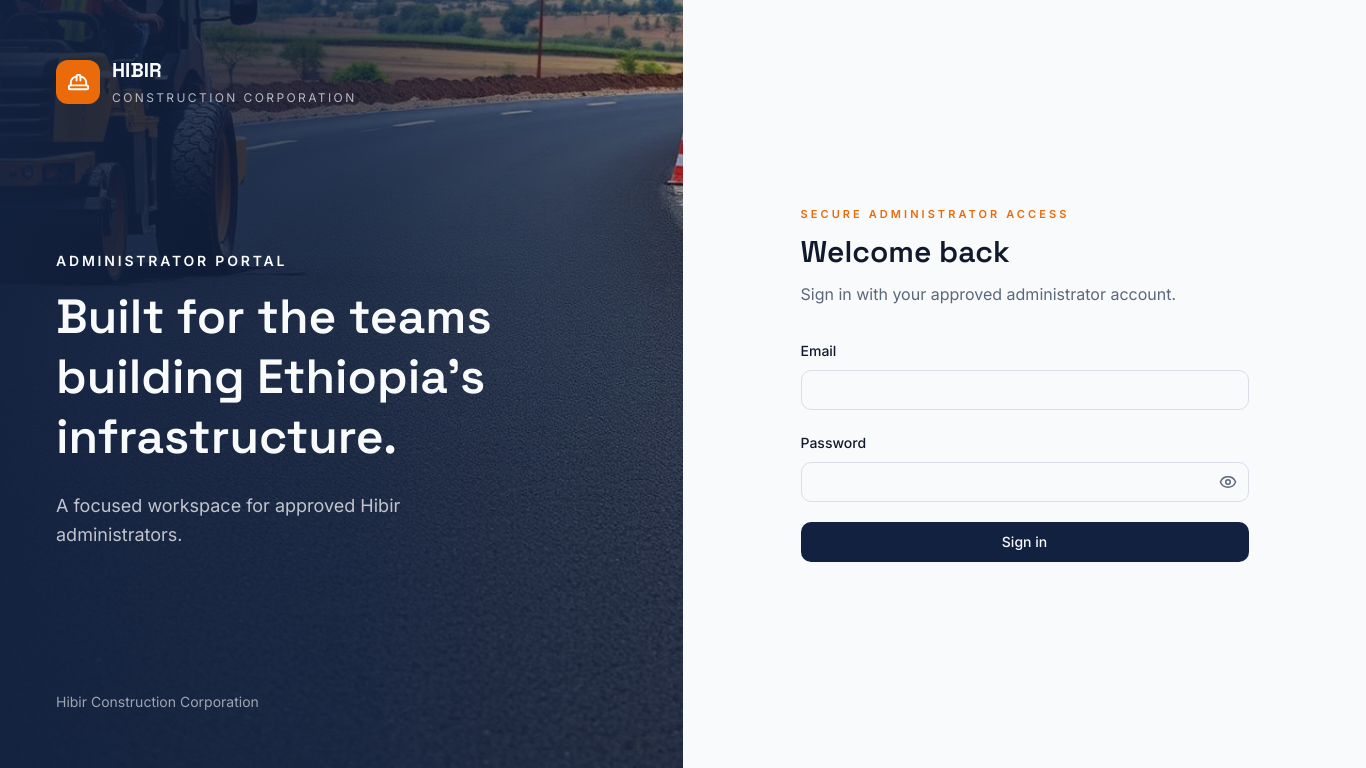
Test case: administrator authentication routes › shows an invalid-credentials error returned by Supabase Auth
In the field labelled "Email": [1024, 390] box [800, 370, 1248, 410], type "admin@example.com"
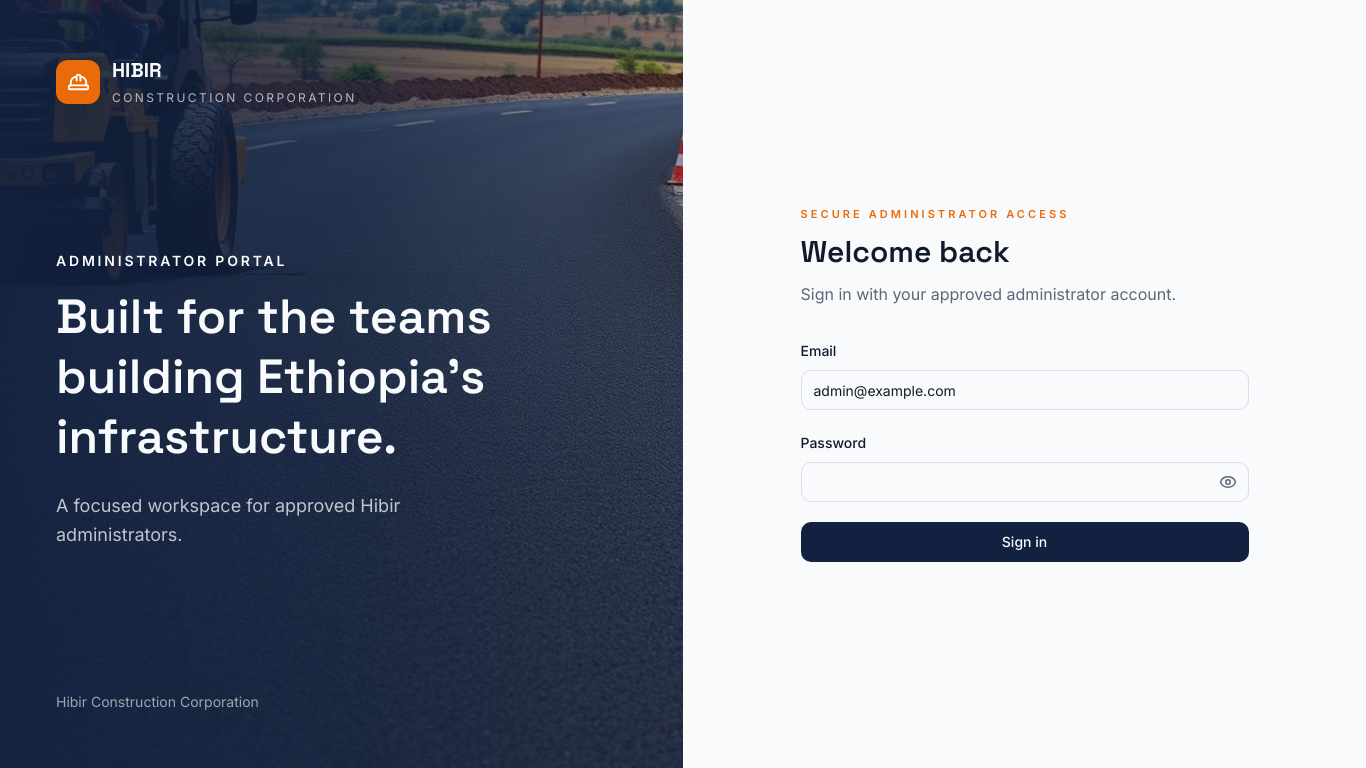
In the password field labelled "Password": [1024, 482] box [800, 462, 1248, 502], type "wrong-password"
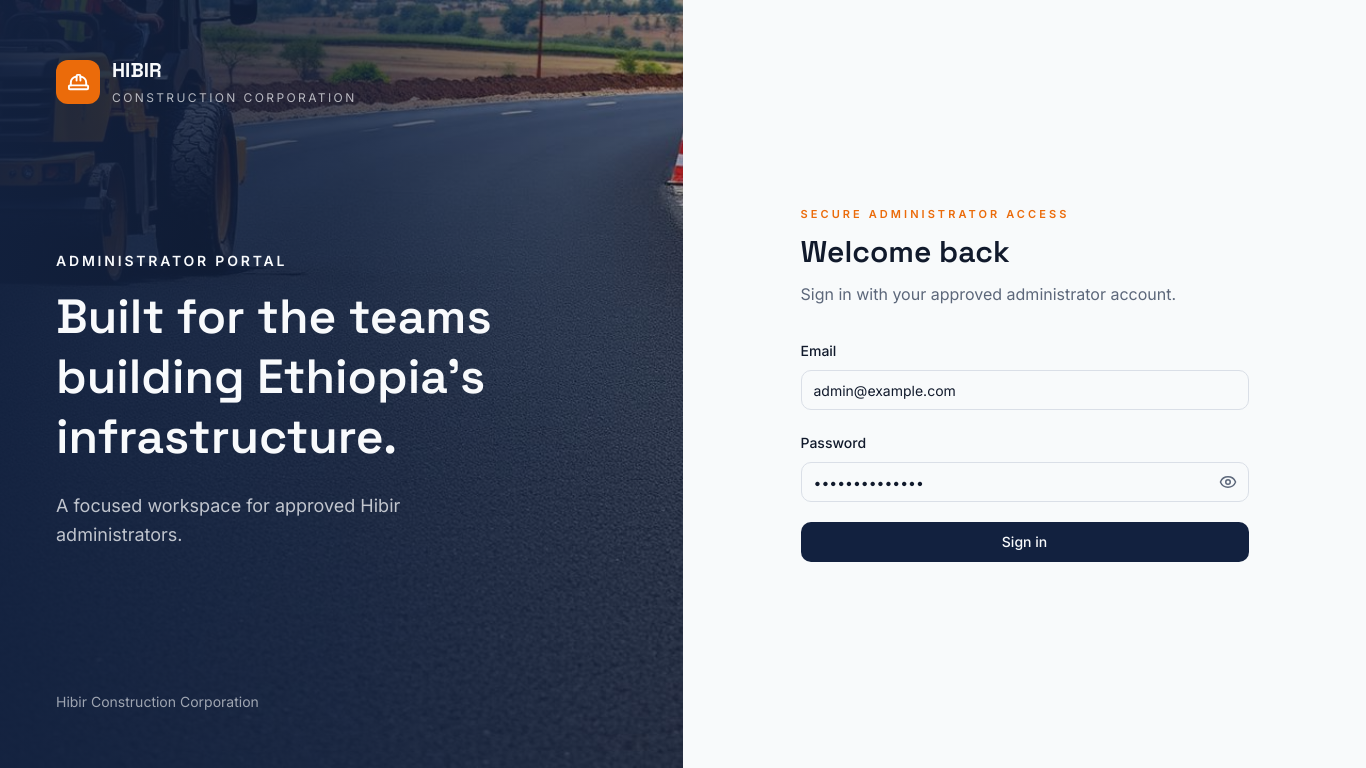
Click the button "Sign in": [1024, 542] box [800, 522, 1248, 562]
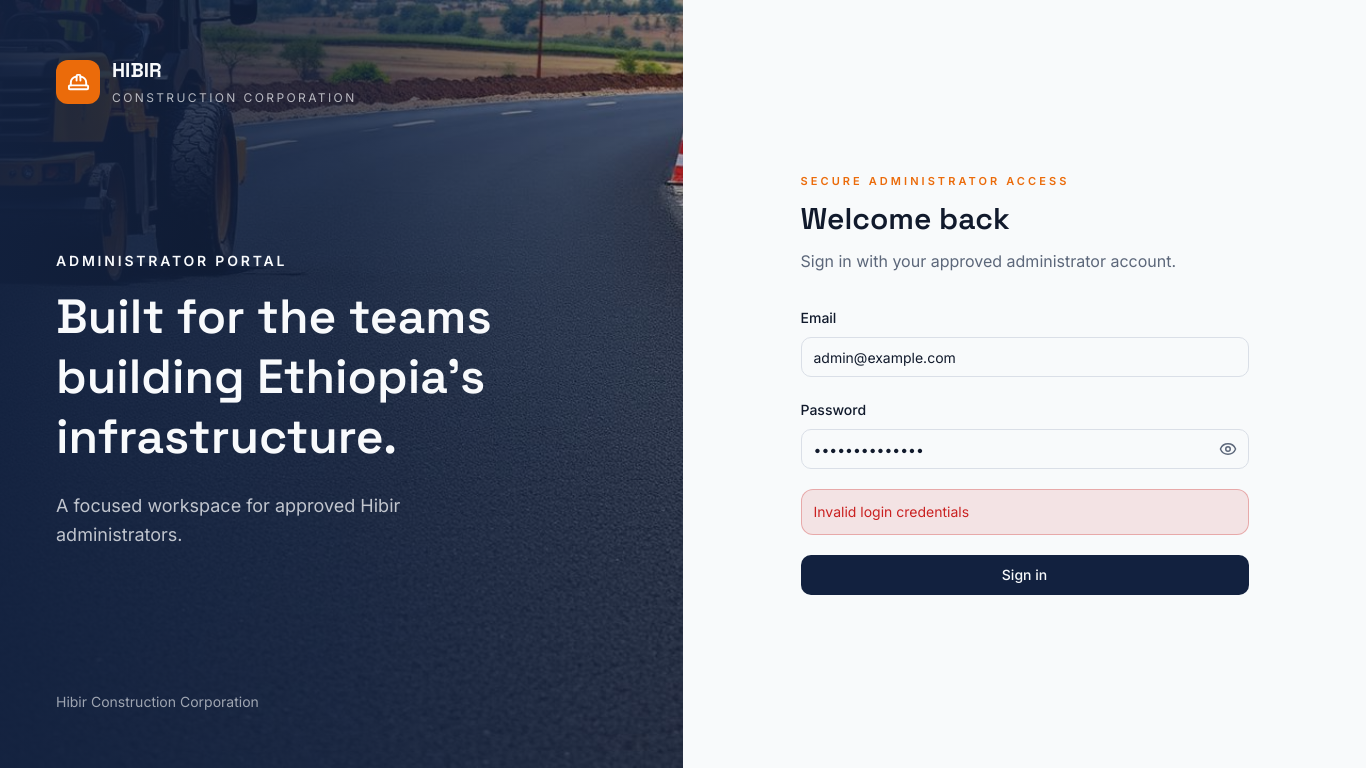
Now the message reads "Invalid login credentials", box [814, 503, 969, 520]
